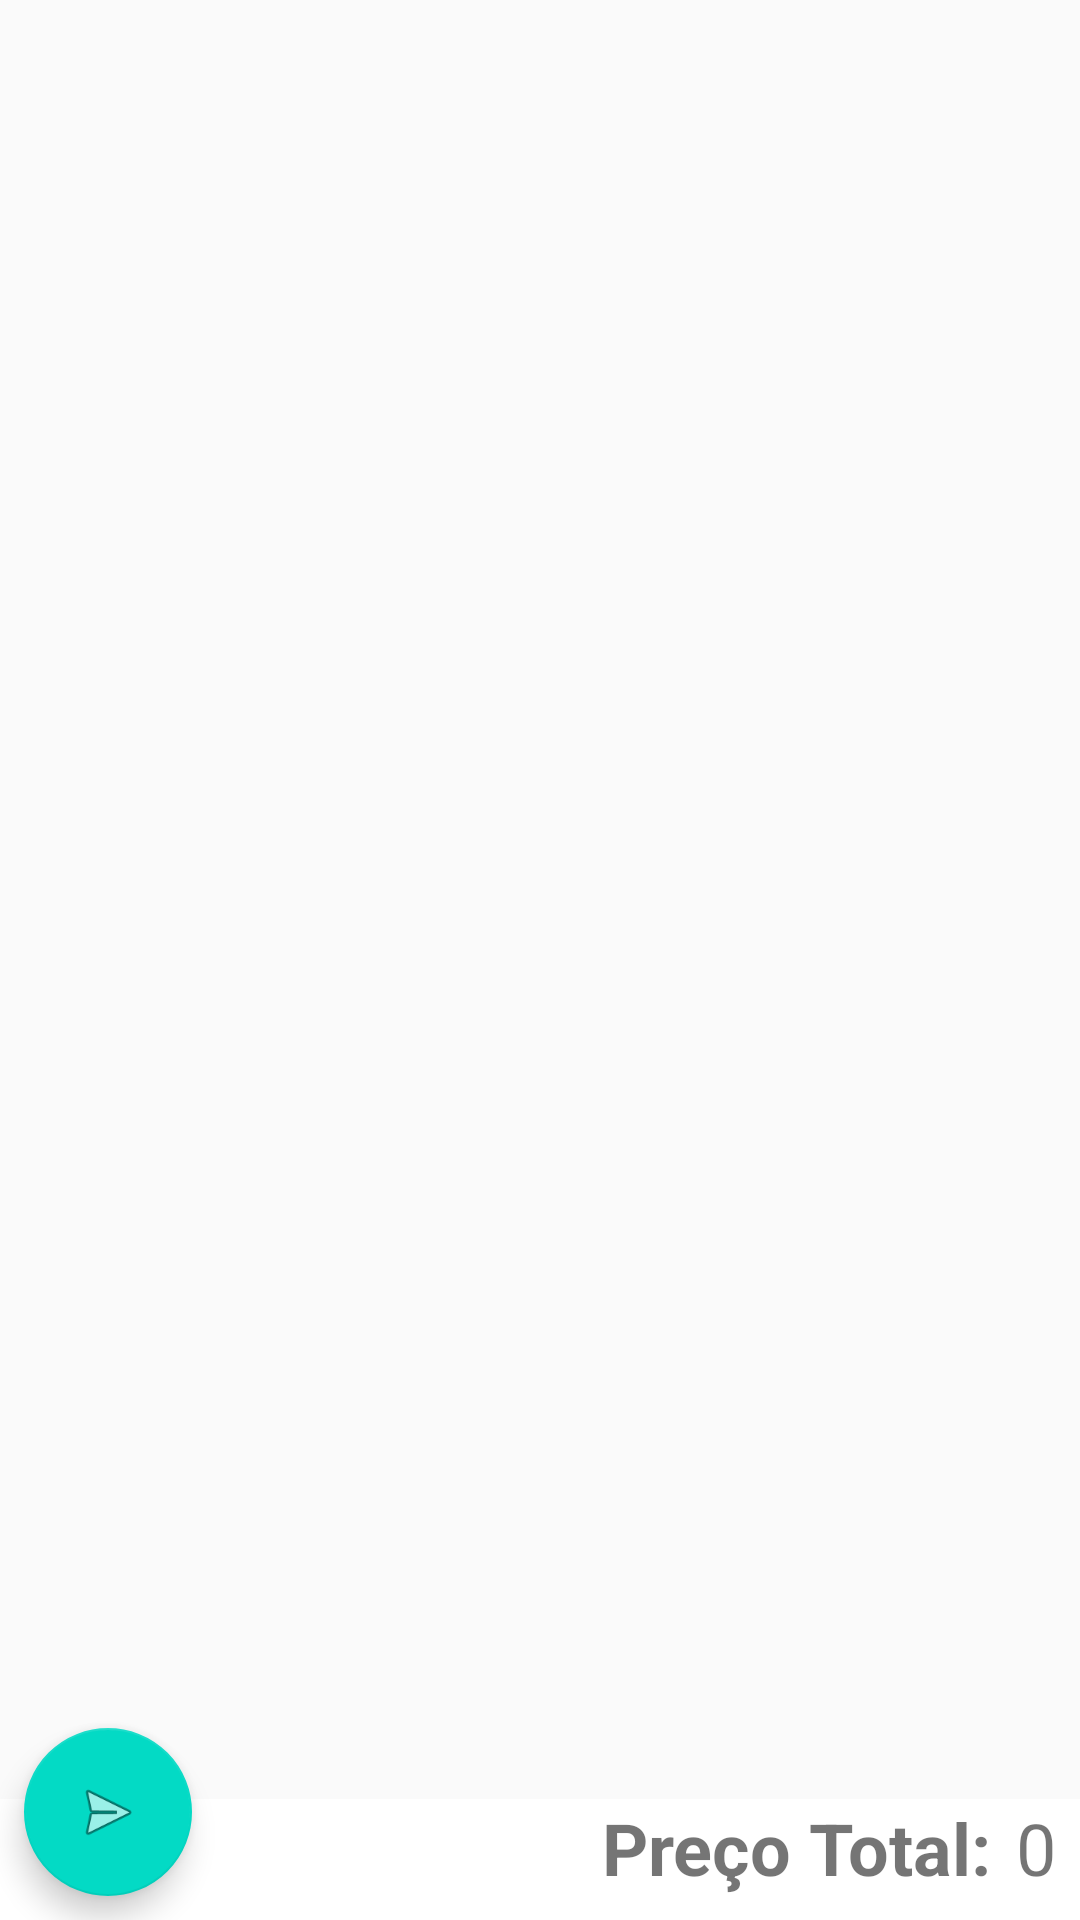

Named icons in this screenshot (1080 × 1920) and their bounding boxes, (left=x1, top=y1, right=x2, bottom=y2):
send: (left=24, top=1728, right=192, bottom=1896)
